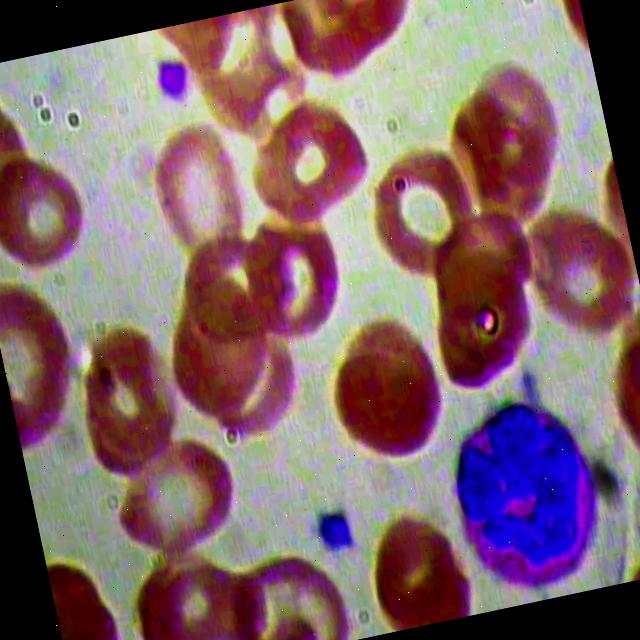Platelets: (146, 44, 197, 112), (311, 501, 358, 562)
RBC: (46, 298, 205, 494), (306, 302, 459, 476), (96, 419, 254, 574), (500, 183, 640, 352), (230, 79, 380, 236), (128, 110, 258, 282), (358, 133, 488, 294), (357, 500, 483, 633), (0, 264, 89, 450), (218, 537, 360, 640), (0, 140, 93, 284)
WBC: (420, 377, 616, 608)
